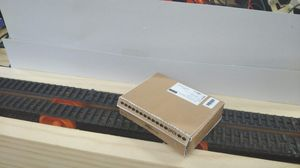box2: (116, 72, 225, 156)
